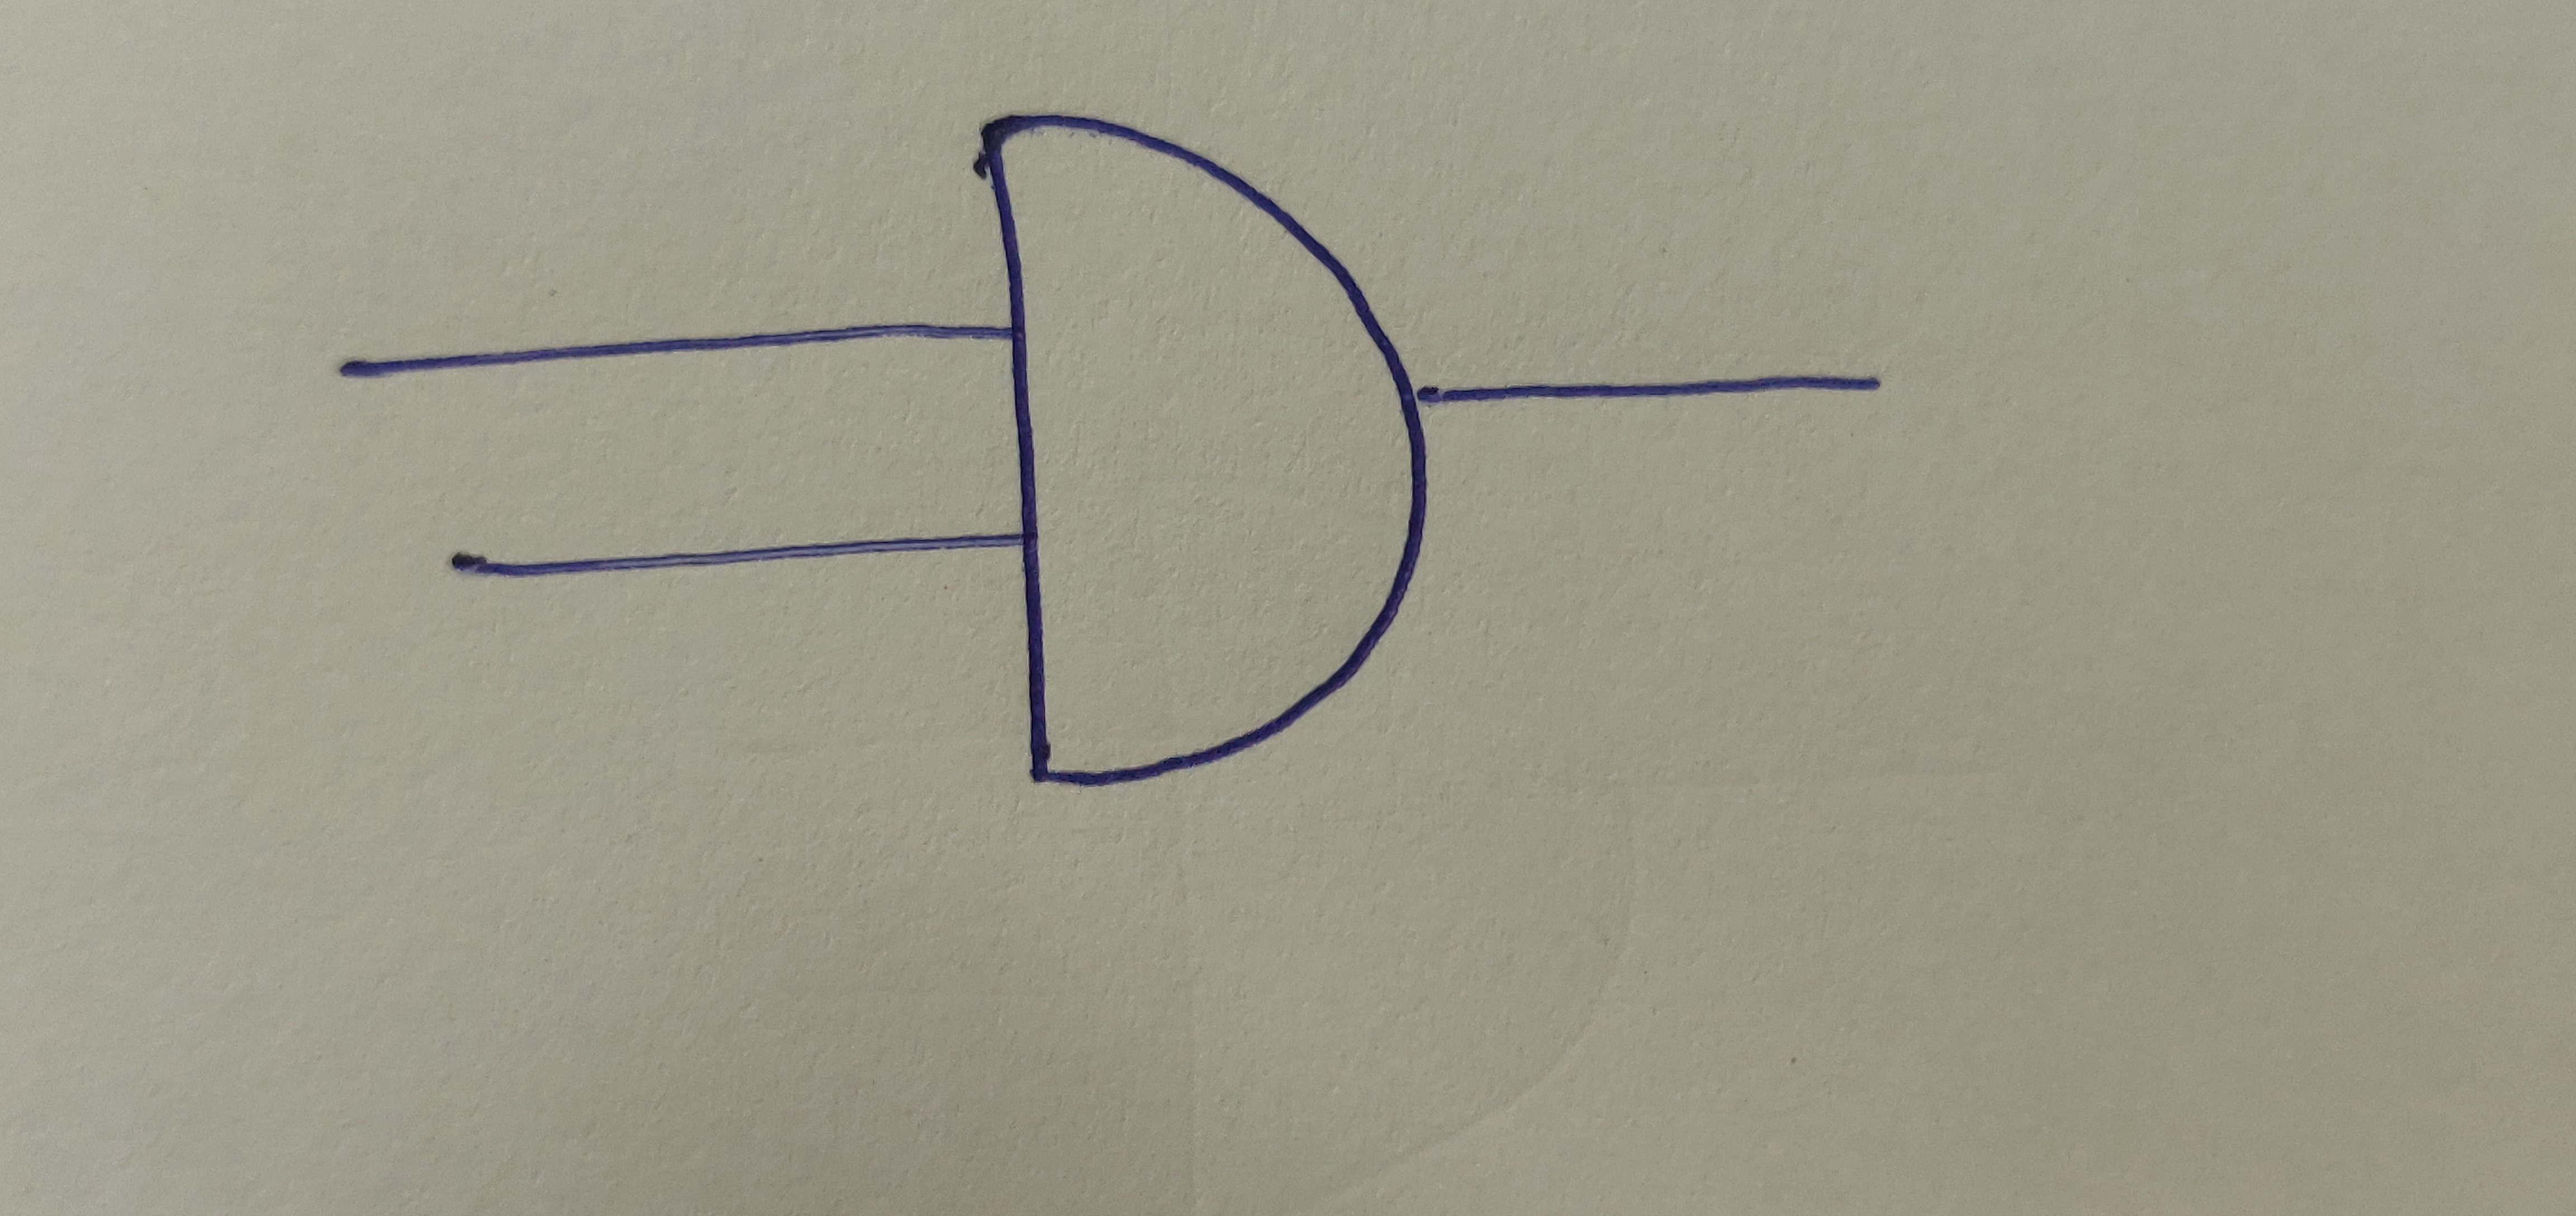and: (973, 110, 1436, 792)
